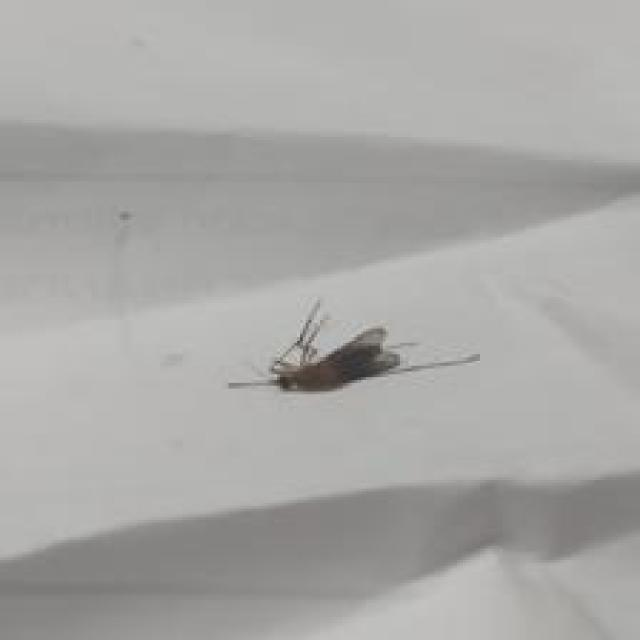Culex: (227, 297, 482, 394)
